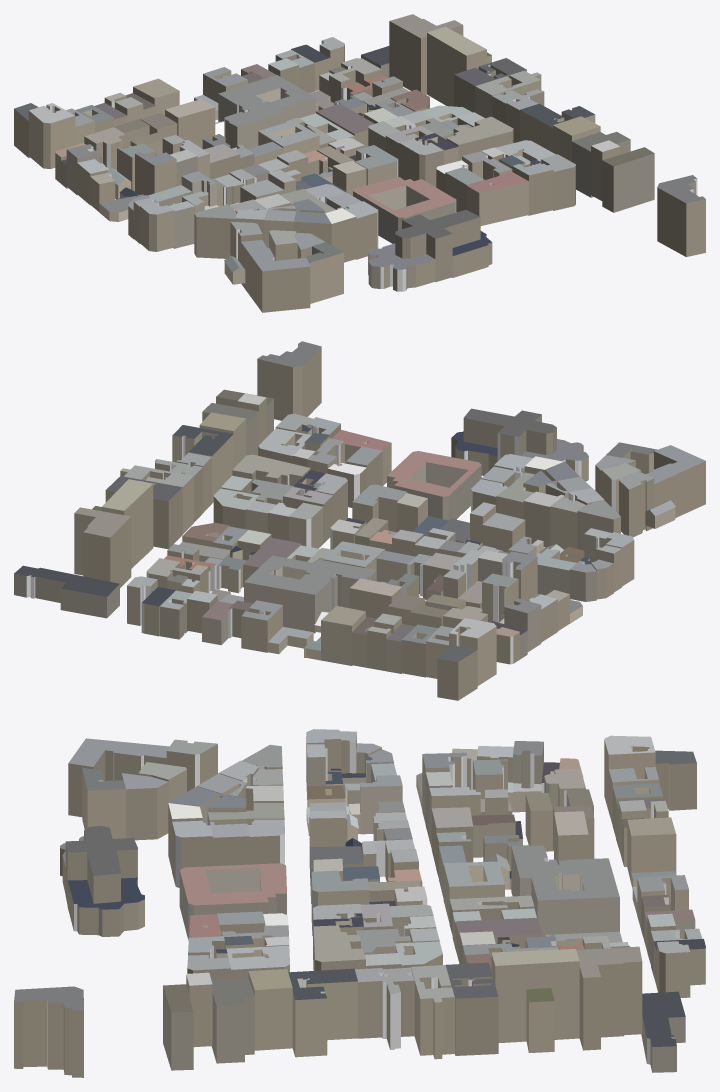
3 renders of one model, top to bottom at view 1: azimuth 30°, elevation 25°; view 2: azimuth 150°, elevation 25°; view 3: azimuth 270°, elevation 25°, orthographic. The views are drawn at different scales.
Parts seen in each view (by area): view 1: tuile; view 2: tuile; view 3: tuile.
Part boxes in pixels (left/top/right/bottom): tuile: left=14, top=14, right=705, bottom=312; tuile: left=14, top=341, right=705, bottom=700; tuile: left=14, top=729, right=705, bottom=1077.
Size of the model in its own units: 258 by 37.82 by 274.
